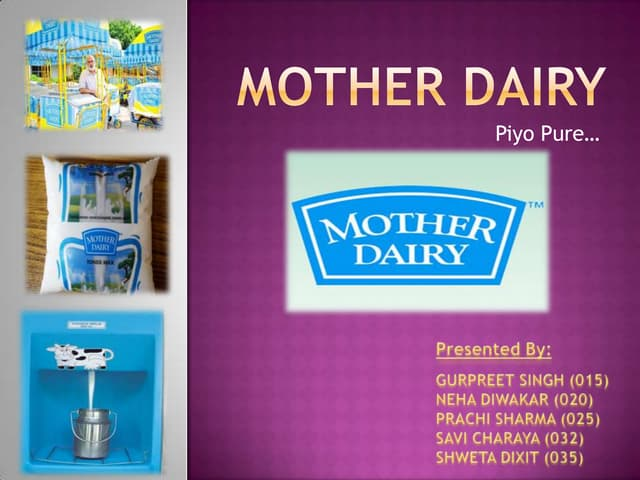Mother_Dairy: (283, 175, 537, 303)
